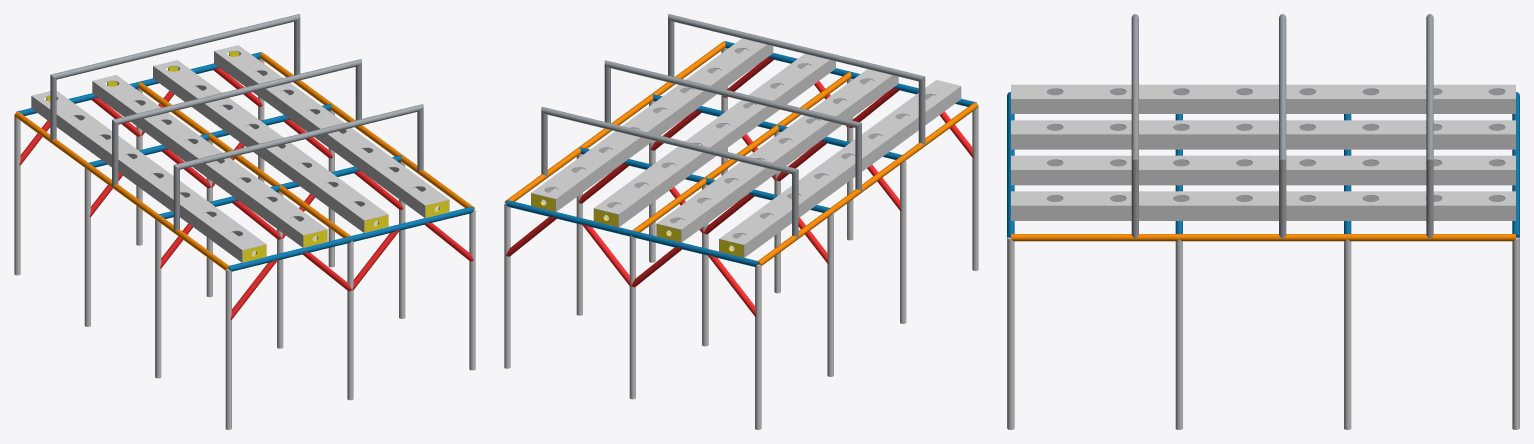
File: frame design.obj
3 renders of one model, left to right at view 1: azimuth 30°, elevation 25°; view 2: azimuth 150°, elevation 25°; view 3: azimuth 270°, elevation 25°, orthographic. The views are drawn at different scales.
Parts seen in each view (by area): view 1: mesh 2 Mirror2[5] face, mesh 7 Boss-Extrude4, mesh 1 frame, mesh 5 Mirror2[8] face, mesh 4 LPattern3[5] face, mesh 3 Boss-Extrude1, mesh 6 Mirror3[2] face; view 2: mesh 2 Mirror2[5] face, mesh 7 Boss-Extrude4, mesh 1 frame, mesh 5 Mirror2[8] face, mesh 4 LPattern3[5] face, mesh 3 Boss-Extrude1, mesh 6 Mirror3[2] face; view 3: mesh 2 Mirror2[5] face, mesh 7 Boss-Extrude4, mesh 5 Mirror2[8] face, mesh 4 LPattern3[5] face, mesh 6 Mirror3[2] face.
Boxes of the visible parts, box(x1,y1,x2,y2) form: mesh 2 Mirror2[5] face: box(14, 45, 475, 429); mesh 7 Boss-Extrude4: box(50, 14, 423, 231); mesh 1 frame: box(19, 68, 473, 319); mesh 5 Mirror2[8] face: box(15, 52, 474, 270); mesh 4 LPattern3[5] face: box(16, 52, 473, 271); mesh 3 Boss-Extrude1: box(46, 51, 448, 262); mesh 6 Mirror3[2] face: box(44, 51, 425, 233); mesh 2 Mirror2[5] face: box(504, 38, 978, 429); mesh 7 Boss-Extrude4: box(541, 14, 925, 237); mesh 1 frame: box(506, 57, 973, 316); mesh 5 Mirror2[8] face: box(504, 41, 978, 265); mesh 4 LPattern3[5] face: box(506, 41, 976, 266); mesh 3 Boss-Extrude1: box(531, 193, 743, 257); mesh 6 Mirror3[2] face: box(544, 48, 936, 235); mesh 2 Mirror2[5] face: box(1007, 84, 1519, 429); mesh 7 Boss-Extrude4: box(1131, 14, 1433, 238); mesh 5 Mirror2[8] face: box(1011, 234, 1515, 241); mesh 4 LPattern3[5] face: box(1007, 92, 1519, 237); mesh 6 Mirror3[2] face: box(1046, 88, 1505, 198).
Size of the model in its own units: 0.818 by 0.709 by 1.22.
